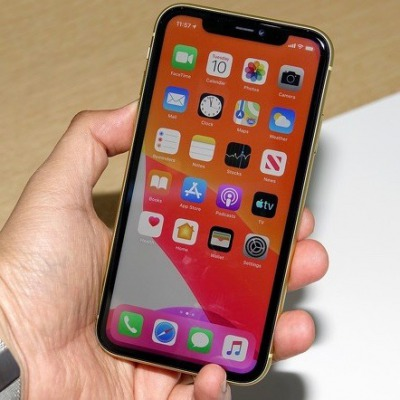iphone: (95, 3, 334, 387)
